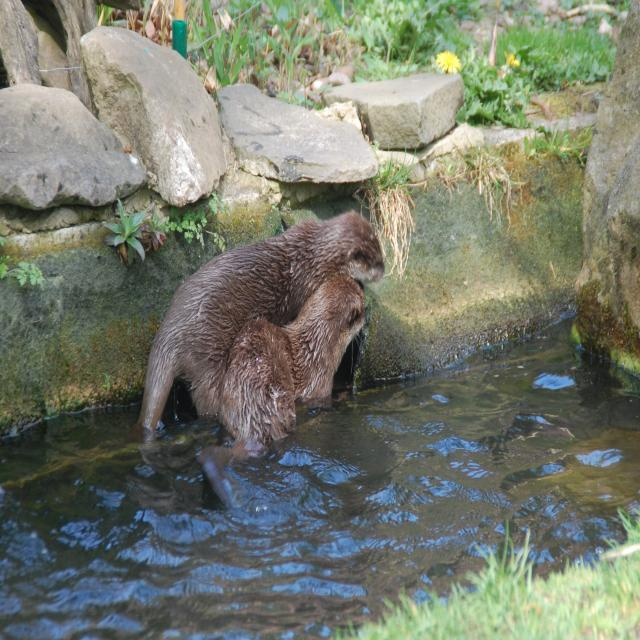otter: (144, 213, 387, 426), (223, 276, 370, 443)
